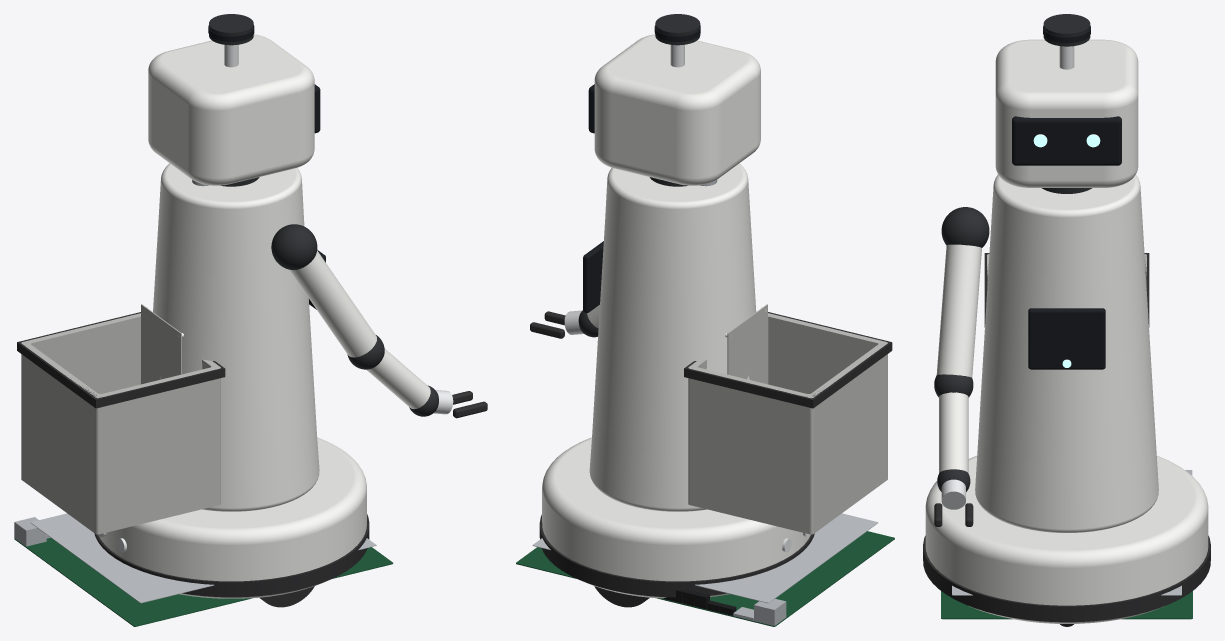
The model's file is anatomy_v1.glb.
3 renders of one model, left to right at view 1: azimuth 30°, elevation 25°; view 2: azimuth 150°, elevation 25°; view 3: azimuth 270°, elevation 25°, orthographic. The views are drawn at different scales.
Visible parts, largest first — view 1: body.2, accent.1, body.3, body.1, pcb.1, battery.1, body.4, rubber.1, accent.152, rubber.6, body.5, coat.4 (+2 smaller); view 2: body.2, accent.1, body.3, body.1, battery.1, pcb.1, rubber.1, accent.152, rubber.6, glass.3, coat.3, module.1 (+1 smaller); view 3: body.2, body.1, body.3, glass.4, rubber.1, glass.3, body.4, body.5, pcb.1, coat.4, coat.3, coat.5 (+3 smaller).
Part boxes in pixels (<box>): body.2: <box>153,163,319,511</box>; accent.1: <box>21,313,220,534</box>; body.3: <box>148,34,314,185</box>; body.1: <box>98,437,366,598</box>; pcb.1: <box>14,538,393,626</box>; battery.1: <box>30,513,376,603</box>; body.4: <box>289,250,376,357</box>; rubber.1: <box>94,514,369,597</box>; accent.152: <box>141,304,181,384</box>; rubber.6: <box>17,312,225,408</box>; body.5: <box>366,348,430,409</box>; coat.4: <box>271,224,317,270</box>; body.2: <box>589,163,756,511</box>; accent.1: <box>688,313,887,534</box>; body.3: <box>594,34,760,185</box>; body.1: <box>542,437,810,598</box>; battery.1: <box>532,513,878,603</box>; pcb.1: <box>516,531,894,626</box>; rubber.1: <box>539,514,814,597</box>; accent.152: <box>727,304,767,384</box>; rubber.6: <box>684,312,892,408</box>; glass.3: <box>583,241,603,312</box>; coat.3: <box>655,14,700,45</box>; module.1: <box>754,598,786,625</box>; body.2: <box>975,174,1158,532</box>; body.1: <box>925,455,1208,623</box>; body.3: <box>995,39,1138,187</box>; glass.4: <box>1012,116,1121,165</box>; rubber.1: <box>923,535,1210,622</box>; glass.3: <box>1028,308,1105,369</box>; body.4: <box>936,244,981,377</box>; body.5: <box>939,392,968,473</box>; pcb.1: <box>941,591,1192,619</box>; coat.4: <box>941,207,989,247</box>; coat.3: <box>1043,14,1090,46</box>; coat.5: <box>934,374,973,397</box>.
Size of the model in its own units: 0.722 by 1.01 by 0.4679.
